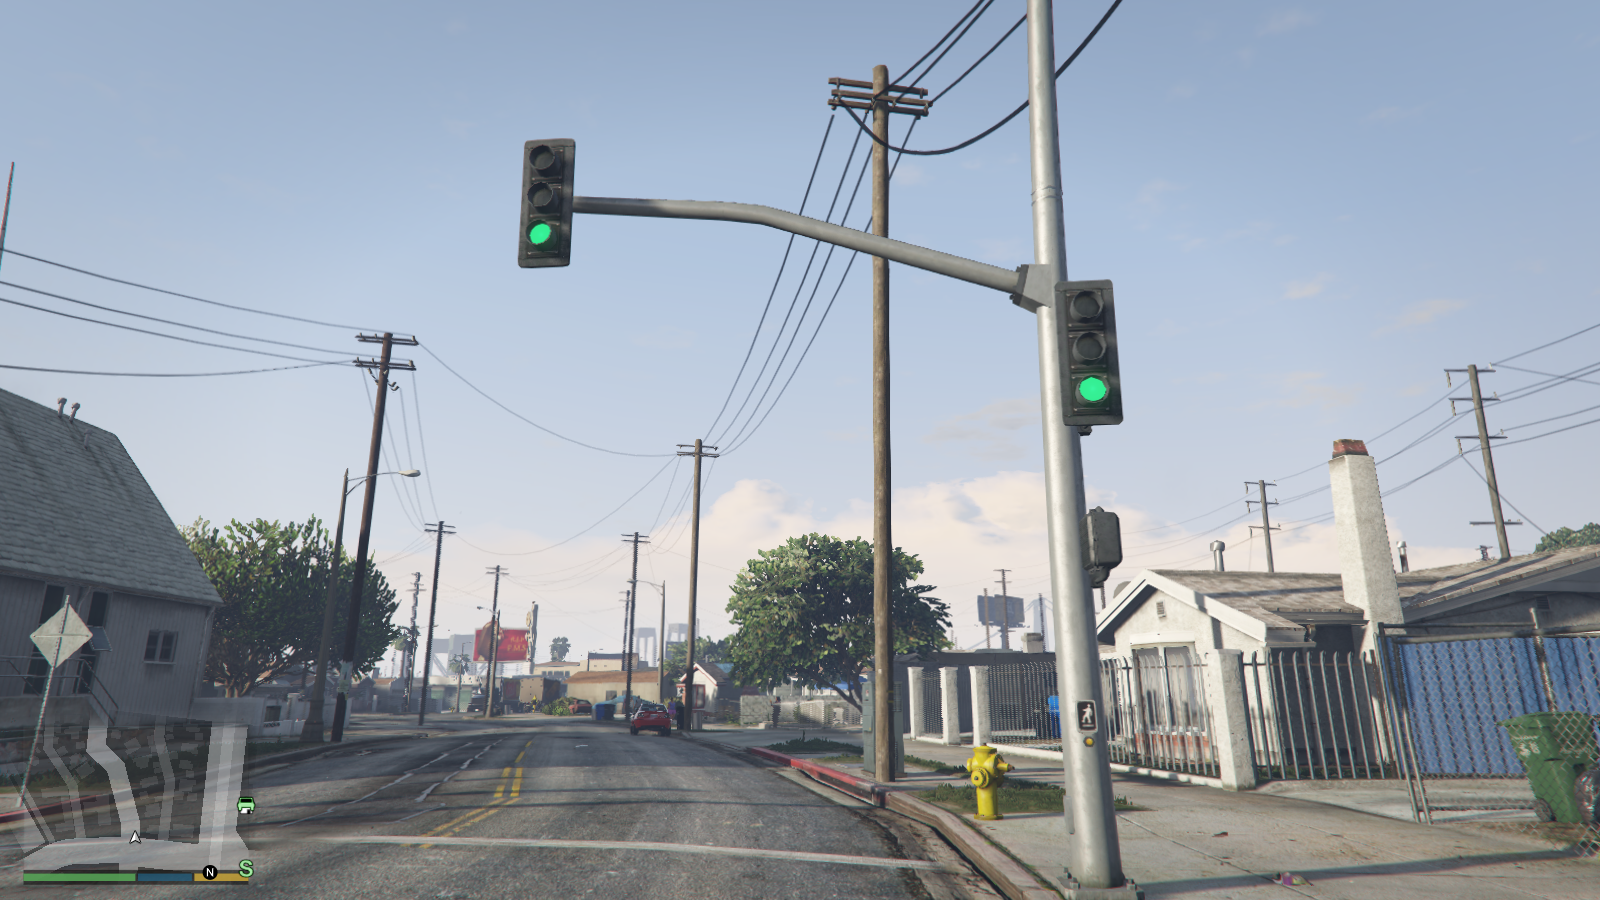green: (1051, 281, 1126, 427), (516, 136, 578, 267)
